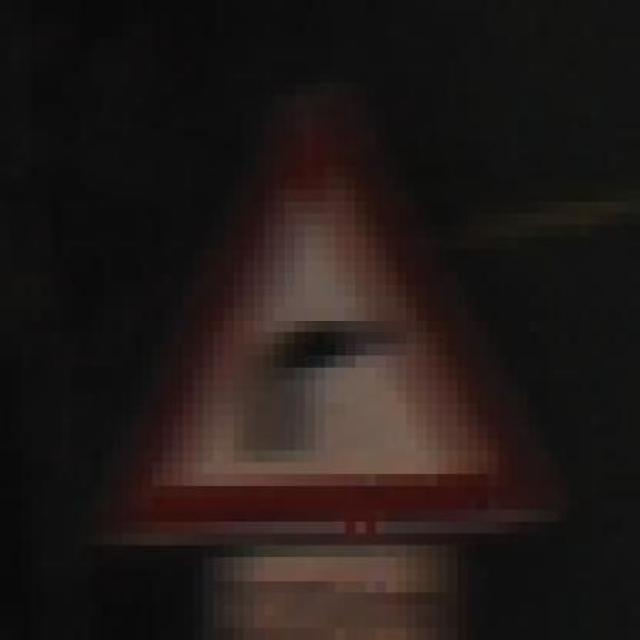Dangerous Rright Curve Ahead: (101, 83, 558, 557)
